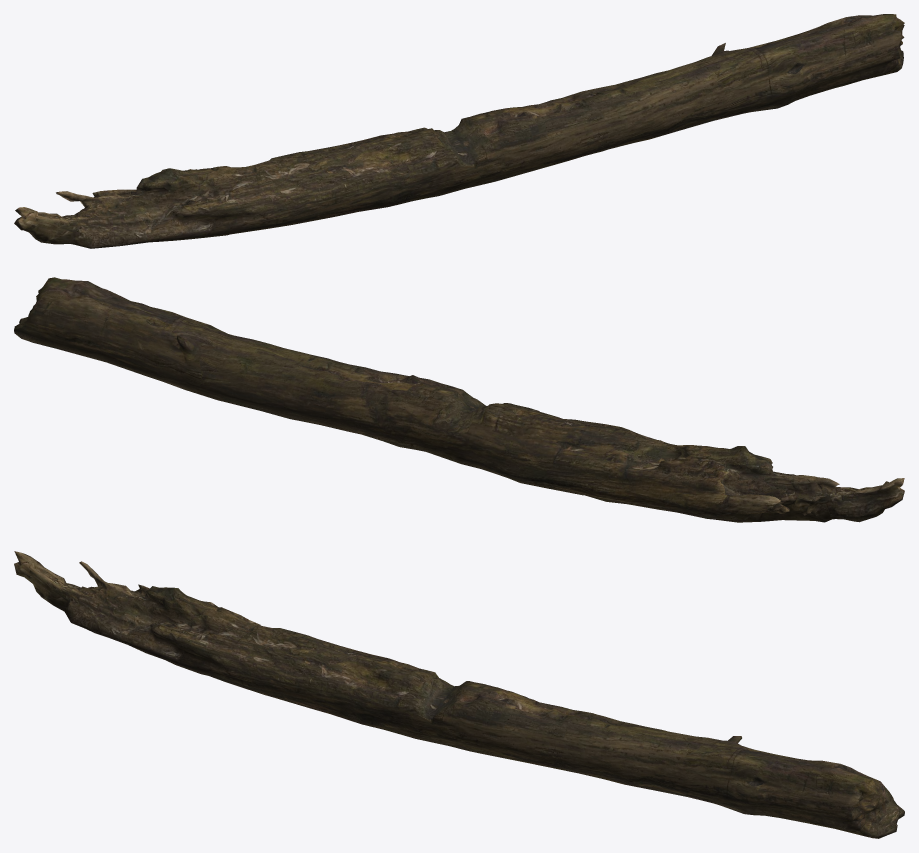
File: dead_tree_trunk.glb
3 views of the same model, one above another, from view 1: azimuth 30°, elevation 25°; view 2: azimuth 150°, elevation 25°; view 3: azimuth 330°, elevation 25° (orthographic).
Parts seen in each view (by area): view 1: dead_tree_trunk; view 2: dead_tree_trunk; view 3: dead_tree_trunk.
Boxes of the visible parts, x1,y1,x2,y2 form: dead_tree_trunk: (14, 14, 904, 248); dead_tree_trunk: (14, 277, 904, 522); dead_tree_trunk: (14, 551, 904, 838).
Size of the model in its own units: 3.05 by 0.2899 by 0.2764.
1 material, 1 textured.
